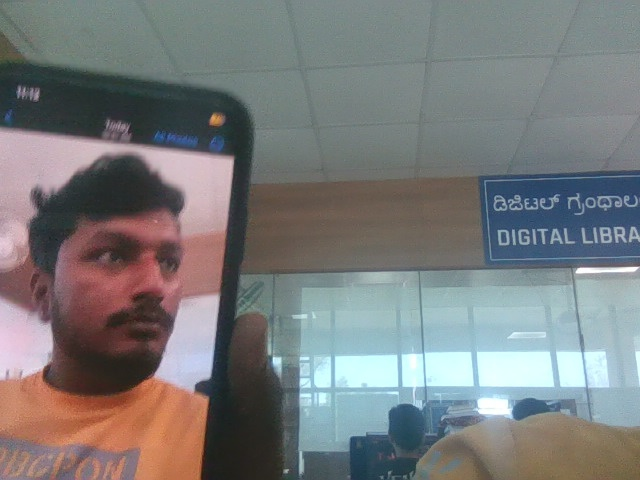fake: (29, 127, 215, 390)
